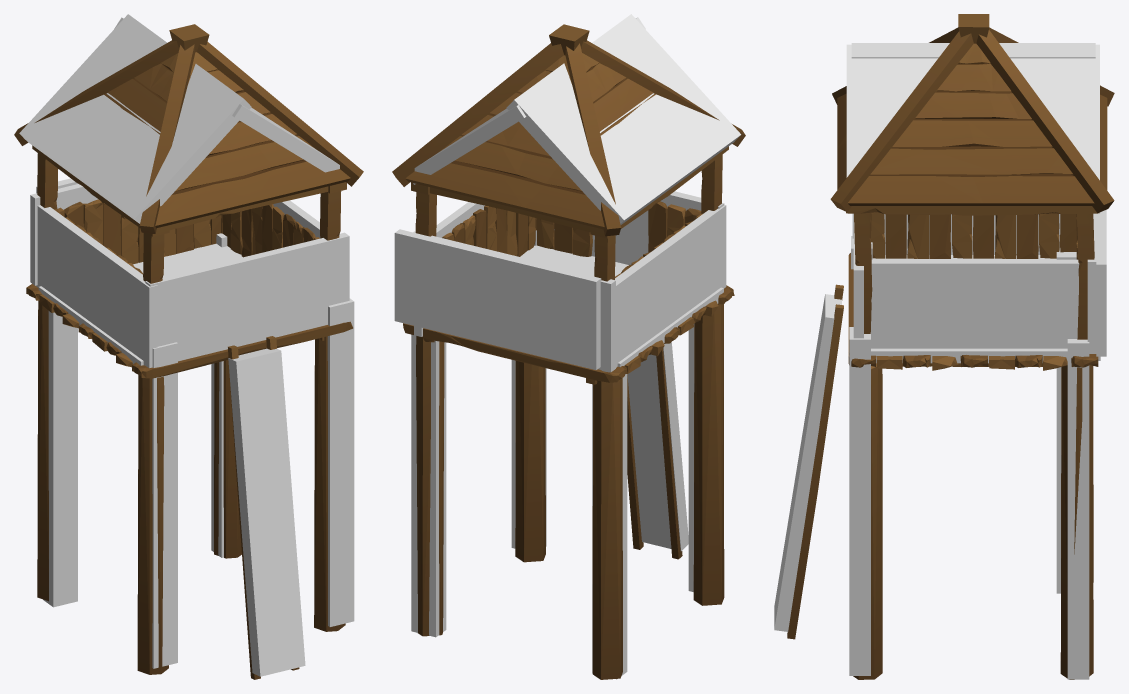
File: wood_tower_human.glb
The picture shows the model from 3 angles, left to right: view 1: azimuth 30°, elevation 25°; view 2: azimuth 150°, elevation 25°; view 3: azimuth 270°, elevation 25°; orthographic projection. The views are drawn at different scales.
Parts seen in each view (by area): view 1: Tower, Cube.011, Cube.005, Cube.017, Cube.013, Cube.004, Cube.012, Cube.007, Cube.014, Cube.010, Cube.019, Cube.015 (+1 smaller); view 2: Tower, Cube.011, Cube.016, Cube.013, Cube.005, Cube.019, Cube.014, Cube.010, Cube.012, Cube.017, Cube.015, Cube.007 (+2 smaller); view 3: Tower, Cube.002, Cube.010, Cube.004, Cube.019, Cube.005, Cube.011, Cube.014, Cube.016, Cube.012, Cube.015, Cube.017 (+1 smaller).
Boxes of the visible parts, <box> form: Tower: <box>14,24,363,679</box>; Cube.011: <box>19,14,251,223</box>; Cube.005: <box>228,348,305,676</box>; Cube.017: <box>145,232,349,361</box>; Cube.013: <box>36,205,157,368</box>; Cube.004: <box>327,298,354,626</box>; Cube.012: <box>43,311,77,607</box>; Cube.007: <box>152,342,177,668</box>; Cube.014: <box>38,243,242,365</box>; Cube.010: <box>114,17,339,172</box>; Cube.019: <box>211,233,227,557</box>; Cube.015: <box>30,184,98,285</box>; Tower: <box>392,24,745,679</box>; Cube.011: <box>506,14,741,224</box>; Cube.016: <box>394,229,601,369</box>; Cube.013: <box>601,205,726,372</box>; Cube.005: <box>627,342,688,551</box>; Cube.019: <box>411,334,446,637</box>; Cube.014: <box>520,245,723,366</box>; Cube.010: <box>413,17,645,184</box>; Cube.012: <box>592,374,627,679</box>; Cube.017: <box>554,191,724,264</box>; Cube.015: <box>413,231,615,372</box>; Cube.007: <box>688,324,694,591</box>; Tower: <box>787,14,1114,679</box>; Cube.002: <box>870,259,1100,360</box>; Cube.010: <box>846,44,1099,180</box>; Cube.004: <box>849,327,870,675</box>; Cube.019: <box>1067,339,1089,679</box>; Cube.005: <box>774,294,841,631</box>; Cube.011: <box>851,43,1095,58</box>; Cube.014: <box>871,255,1067,363</box>; Cube.016: <box>1096,209,1106,356</box>; Cube.012: <box>1056,248,1076,593</box>; Cube.015: <box>1087,213,1096,353</box>; Cube.017: <box>853,214,863,338</box>.
Bounding box in the file's own units: 2.97 × 7.25 × 3.67.
Materials: 1 (1 with a texture image).
